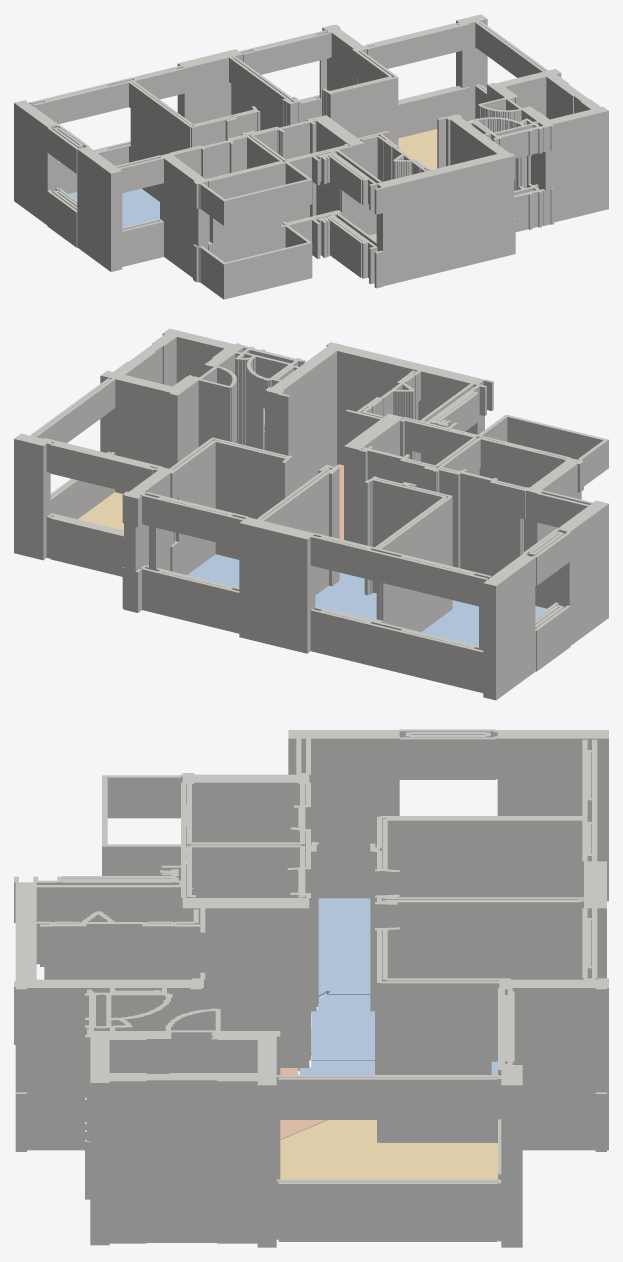
The picture shows the model from 3 angles, top to bottom: view 1: azimuth 30°, elevation 25°; view 2: azimuth 150°, elevation 25°; view 3: azimuth 270°, elevation 25°; orthographic projection. The views are drawn at different scales.
Parts seen in each view (by area): view 1: walls, room:bedroom:0, room:living:2; view 2: walls, room:bedroom:1, room:bedroom:0, room:bedroom:3, room:living:2; view 3: walls, room:living:2, room:bedroom:0, room:bedroom:1, room:bedroom:3.
Boxes of the visible parts, x1,y1,x2,y2 form: walls: (14, 14, 608, 299); room:bedroom:0: (68, 188, 159, 227); room:living:2: (398, 119, 474, 169); walls: (14, 328, 608, 700); room:bedroom:1: (315, 572, 376, 620); room:bedroom:0: (421, 600, 546, 646); room:bedroom:3: (187, 554, 239, 587); room:living:2: (78, 492, 123, 530); walls: (14, 729, 608, 1247); room:living:2: (280, 1120, 497, 1179); room:bedroom:0: (318, 898, 370, 996); room:bedroom:1: (311, 995, 374, 1060); room:bedroom:3: (299, 1060, 497, 1074).
Size of the model in its own units: 13.16 by 2.8 by 9.29.
